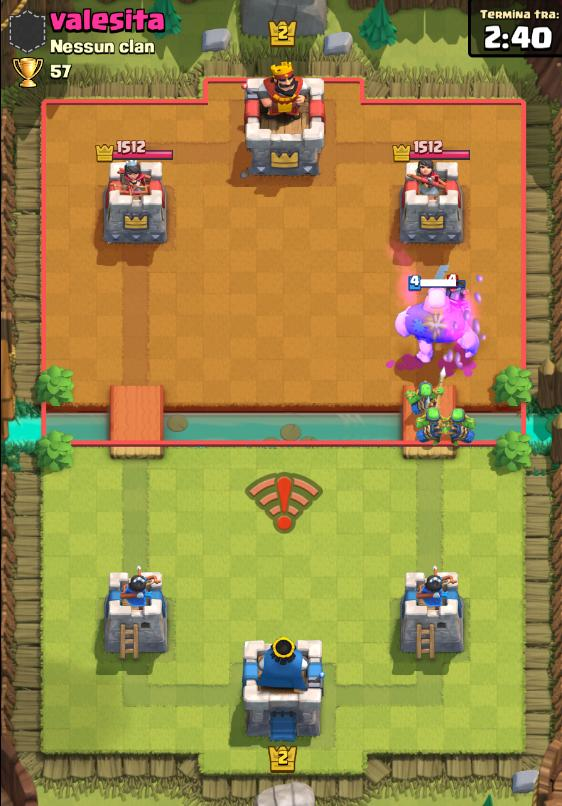ally_giant: (397, 270, 482, 373)
ally_spear_goblin: (445, 399, 487, 454), (402, 390, 441, 435)
